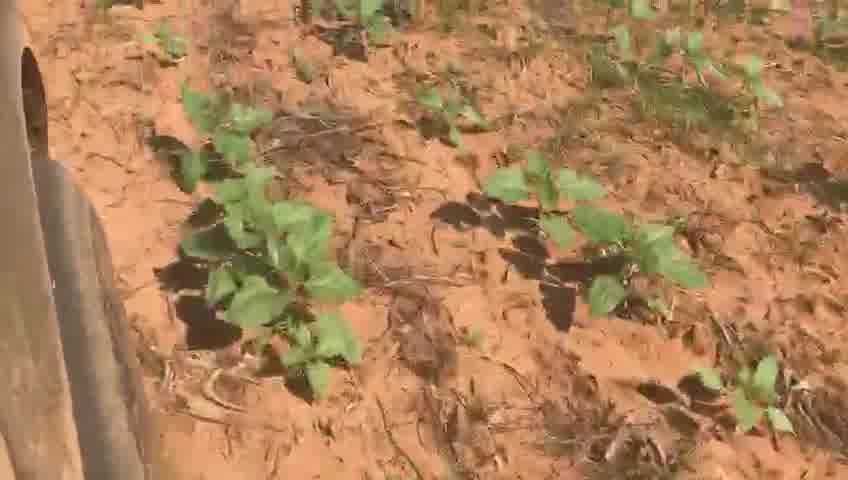sunflower: (168, 214, 367, 398), (506, 214, 711, 331), (145, 84, 295, 210), (461, 140, 617, 231), (678, 355, 796, 436), (411, 76, 495, 144), (326, 4, 391, 60), (129, 20, 203, 65)
